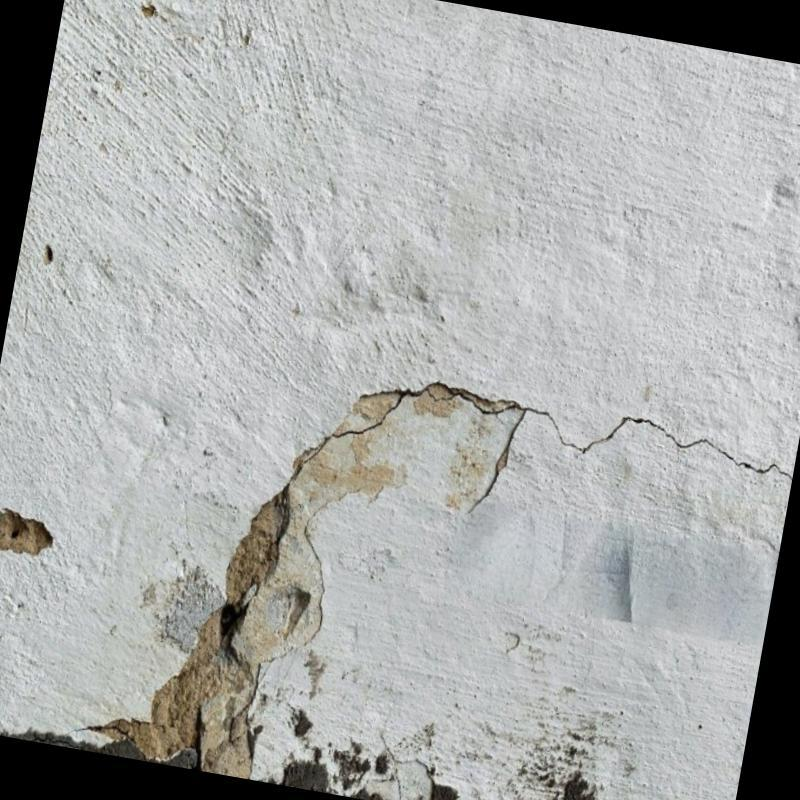pothole: (280, 388, 516, 513), (515, 406, 792, 481), (466, 411, 526, 516)
